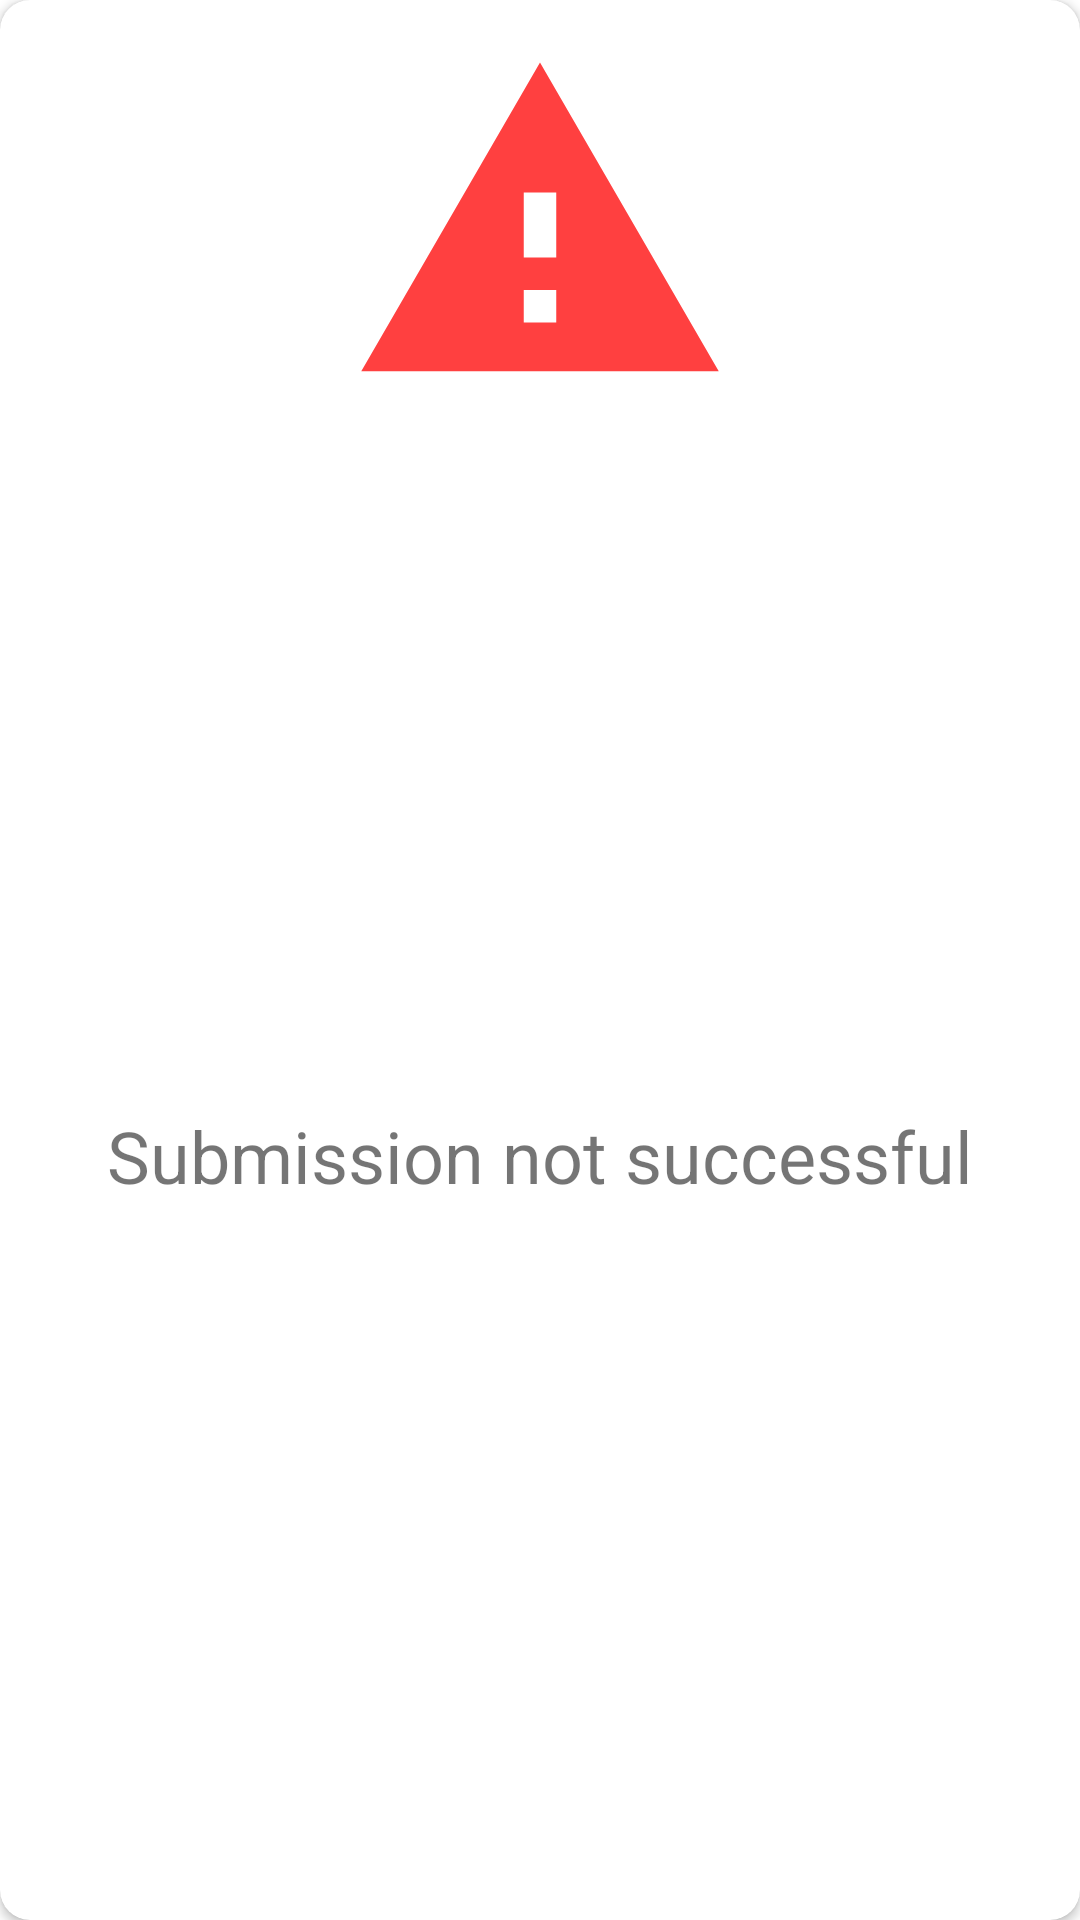

Screen size 1080 × 1920. Icon name, then its center in pixels as (x,y):
warning: (540,217)
